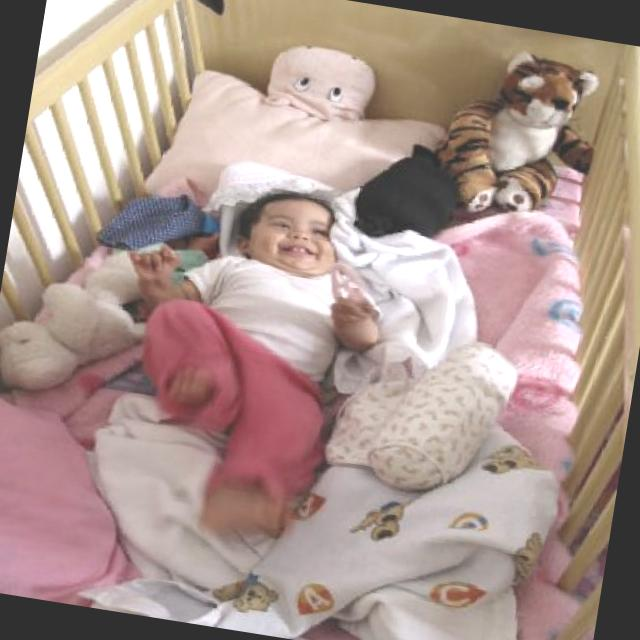Person: (90, 169, 404, 558)
